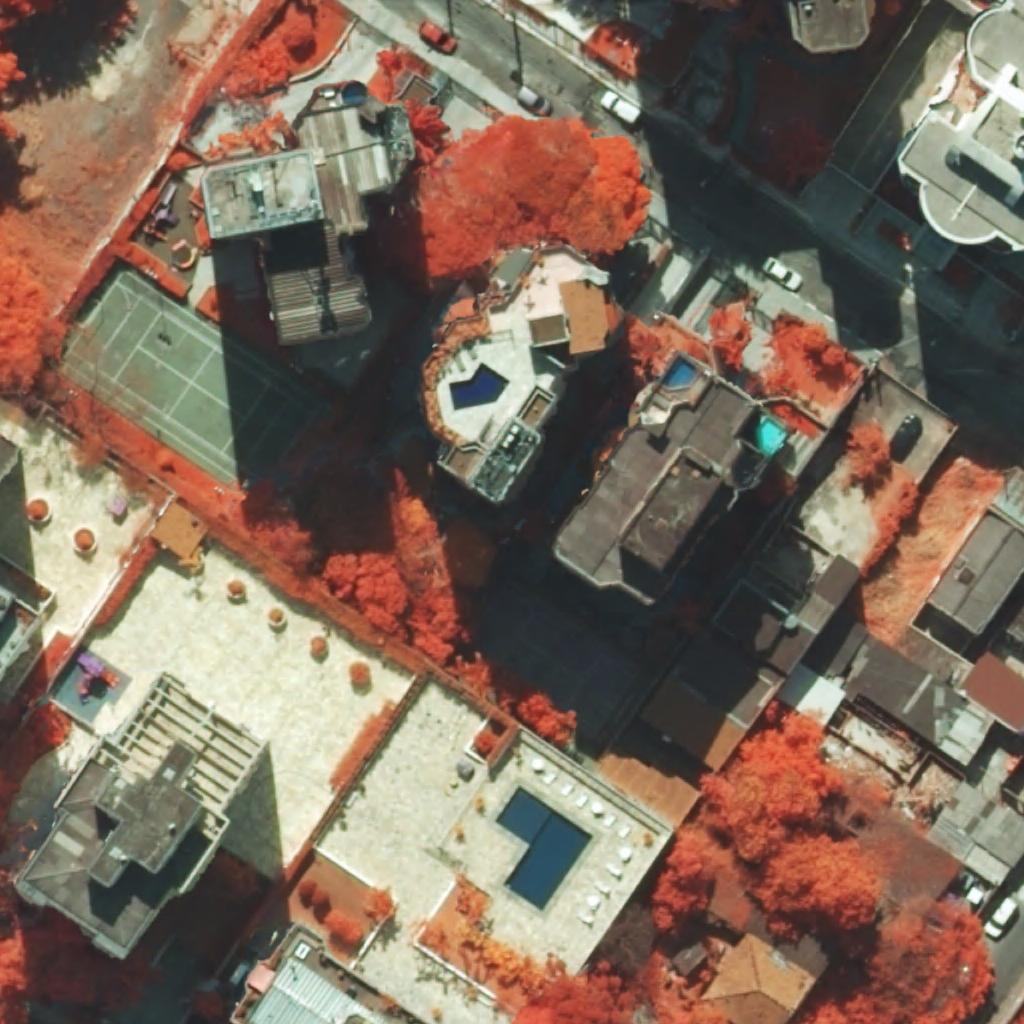pool: (495, 786, 593, 912), (450, 363, 511, 411), (756, 417, 789, 456), (661, 356, 698, 388)
